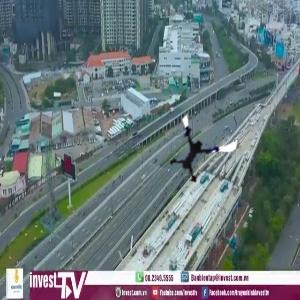drone: (162, 113, 234, 185)
